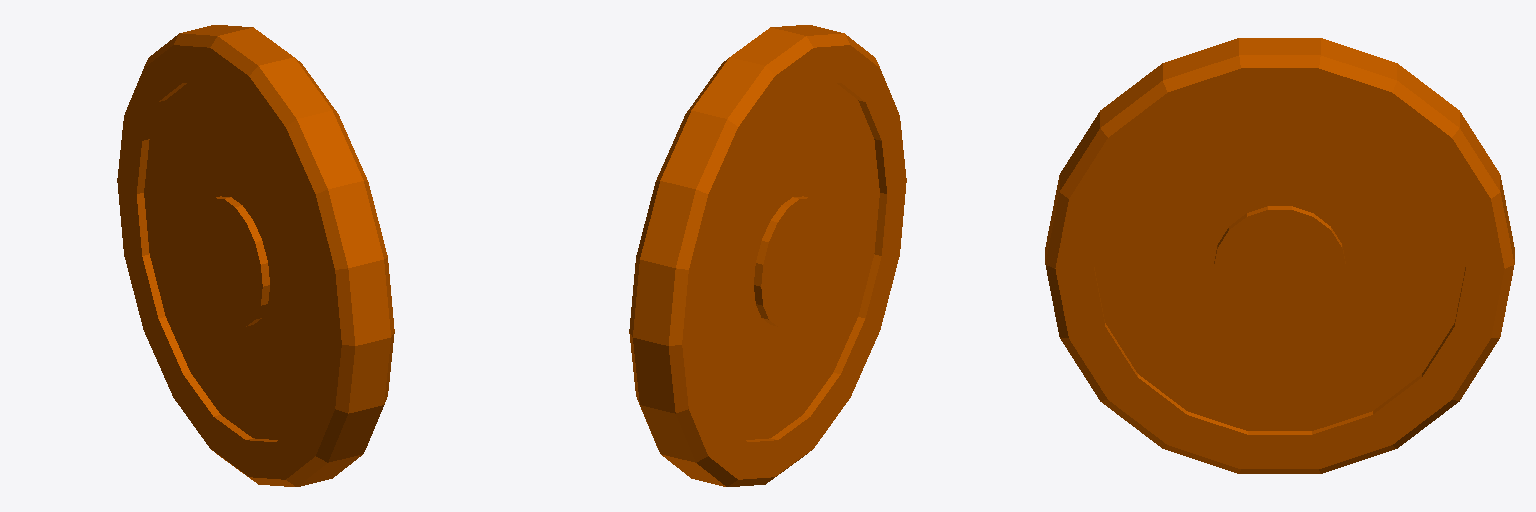
Rendered from coin_new.obj.
3 renders of one model, left to right at view 1: azimuth 30°, elevation 25°; view 2: azimuth 150°, elevation 25°; view 3: azimuth 270°, elevation 25°, orthographic.
Parts seen in each view (by area): view 1: Coin; view 2: Coin; view 3: Coin.
Part boxes in pixels (left/top/right/bottom): Coin: left=117, top=25, right=394, bottom=486; Coin: left=629, top=25, right=906, bottom=486; Coin: left=1045, top=38, right=1514, bottom=473.
Bounding box in the file's own units: 0.26 × 1.97 × 2.